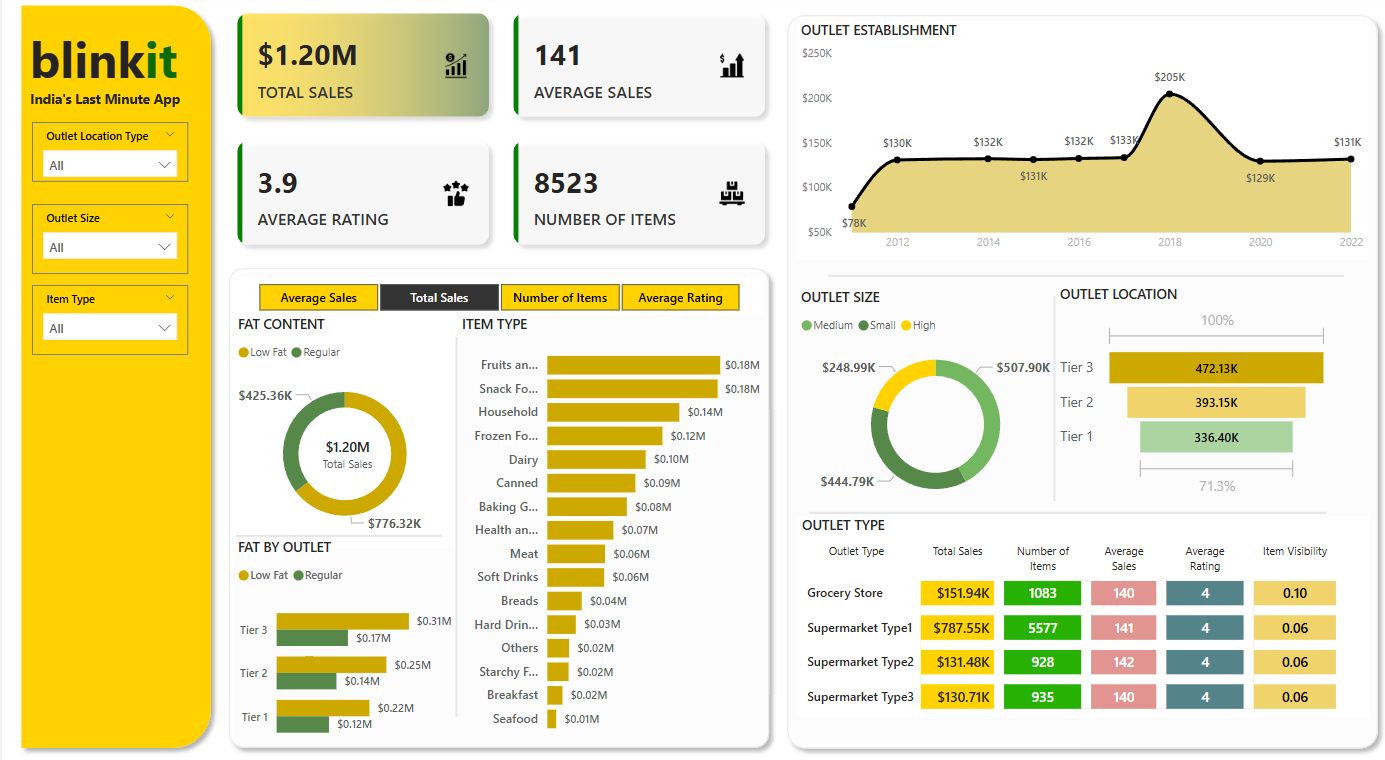

What the dashboard file says about the page in this screenshot:
{"tool":"powerbi","page":{"name":"Page 1","canvas":[1400,800],"ordinal":0},"visuals":[{"type":"shape","box":[10,0,205,750],"z":0},{"type":"textbox","box":[262.8,670.2,204.3,79.8],"z":1000},{"type":"textbox","box":[22.3,23.4,175.5,78.7],"z":2000},{"type":"textbox","box":[22.3,87.2,168.1,29.8],"z":3000},{"type":"cardVisual","fields":{"Data":["BlinkIT Grocery Data.Total Sales","BlinkIT Grocery Data.Average Sales","BlinkIT Grocery Data.Average Rating","BlinkIT Grocery Data.Number of Items"]},"box":[214.9,0,554.3,263.8],"z":4000},{"type":"shape","box":[214.9,259.6,550,490.4],"z":5000},{"type":"donutChart","title":"FAT CONTENT","fields":{"Y":["BlinkIT Grocery Data.Total Sales"],"Category":["BlinkIT Grocery Data.Item Fat Content"]},"box":[227.7,313.8,220.2,229.8],"z":6000},{"type":"slicer","fields":{"Values":["Metrics.Metrics"]},"box":[227.7,276.6,523.4,37.2],"z":7000},{"type":"cardVisual","fields":{"Data":["BlinkIT Grocery Data.Total Sales"]},"box":[283,418.1,116,62.8],"z":8000},{"type":"clusteredBarChart","title":"FAT BY OUTLET","fields":{"Y":["BlinkIT Grocery Data.Total Sales"],"Category":["BlinkIT Grocery Data.Outlet Location Type"],"Series":["BlinkIT Grocery Data.Item Fat Content"]},"box":[227.7,534,220.2,216],"z":9000},{"type":"shape","box":[230.8,520.2,203.2,23.4],"z":10000},{"type":"shape","box":[434,336.2,26.6,374.5],"z":11000},{"type":"barChart","title":"ITEM TYPE","fields":{"Y":["BlinkIT Grocery Data.Total Sales"],"Category":["BlinkIT Grocery Data.Item Type"]},"box":[447.9,313.8,303.2,421.3],"z":12000},{"type":"shape","box":[764.9,9.6,600,740.4],"z":13000},{"type":"lineChart","title":"OUTLET ESTABLISHMENT","fields":{"Category":["BlinkIT Grocery Data.Outlet Establishment Year"],"Y":["BlinkIT Grocery Data.Total Sales"]},"box":[781.9,24.5,563.8,235.1],"z":14000},{"type":"shape","box":[813.8,263.8,508.5,23.4],"z":15000},{"type":"donutChart","title":"OUTLET SIZE","fields":{"Y":["BlinkIT Grocery Data.Total Sales"],"Category":["BlinkIT Grocery Data.Outlet Size"]},"box":[781.9,287.2,275,225],"z":16000},{"type":"shape","box":[1023.4,295.7,26.6,202.1],"z":17000},{"type":"funnel","title":"OUTLET LOCATION","fields":{"Y":["Sum(BlinkIT Grocery Data.Sales)"],"Category":["BlinkIT Grocery Data.Outlet Location Type"]},"box":[1037.2,285.1,274.5,212.8],"z":18000},{"type":"shape","box":[795.7,497.9,508.5,23.4],"z":19000},{"type":"pivotTable","title":"OUTLET TYPE","fields":{"Rows":["BlinkIT Grocery Data.Outlet Type"],"Values":["BlinkIT Grocery Data.Total Sales","BlinkIT Grocery Data.Number of Items","BlinkIT Grocery Data.Average Sales","BlinkIT Grocery Data.Average Rating","Avg(BlinkIT Grocery Data.Item Visibility)"]},"box":[783,512.8,563.8,197.9],"z":20000},{"type":"slicer","fields":{"Values":["BlinkIT Grocery Data.Outlet Location Type"]},"box":[29.6,124.1,153.7,59.1],"z":21000},{"type":"slicer","fields":{"Values":["BlinkIT Grocery Data.Item Type"]},"box":[29.6,284.7,153.7,69],"z":22000},{"type":"slicer","fields":{"Values":["BlinkIT Grocery Data.Outlet Size"]},"box":[29.6,204.9,153.7,69],"z":23000}]}

Visuals, with their boxes on the page's 1400x800 design canvas (x1, y1, x2, y2). These are canvas units, not pixel positions in the 1385x760 screenshot, which may show the page scaled, cropped or inside an application window:
shape: rect(10, 0, 215, 750)
textbox: rect(263, 670, 467, 750)
textbox: rect(22, 23, 198, 102)
textbox: rect(22, 87, 190, 117)
cardVisual - BlinkIT Grocery Data.Total Sales x BlinkIT Grocery Data.Average Sales: rect(215, 0, 769, 264)
shape: rect(215, 260, 765, 750)
"FAT CONTENT" donutChart: rect(228, 314, 448, 544)
slicer - Metrics.Metrics: rect(228, 277, 751, 314)
cardVisual - BlinkIT Grocery Data.Total Sales: rect(283, 418, 399, 481)
"FAT BY OUTLET" clusteredBarChart: rect(228, 534, 448, 750)
shape: rect(231, 520, 434, 544)
shape: rect(434, 336, 461, 711)
"ITEM TYPE" barChart: rect(448, 314, 751, 735)
shape: rect(765, 10, 1365, 750)
"OUTLET ESTABLISHMENT" lineChart: rect(782, 24, 1346, 260)
shape: rect(814, 264, 1322, 287)
"OUTLET SIZE" donutChart: rect(782, 287, 1057, 512)
shape: rect(1023, 296, 1050, 498)
"OUTLET LOCATION" funnel: rect(1037, 285, 1312, 498)
shape: rect(796, 498, 1304, 521)
"OUTLET TYPE" pivotTable: rect(783, 513, 1347, 711)
slicer - BlinkIT Grocery Data.Outlet Location Type: rect(30, 124, 183, 183)
slicer - BlinkIT Grocery Data.Item Type: rect(30, 285, 183, 354)
slicer - BlinkIT Grocery Data.Outlet Size: rect(30, 205, 183, 274)
